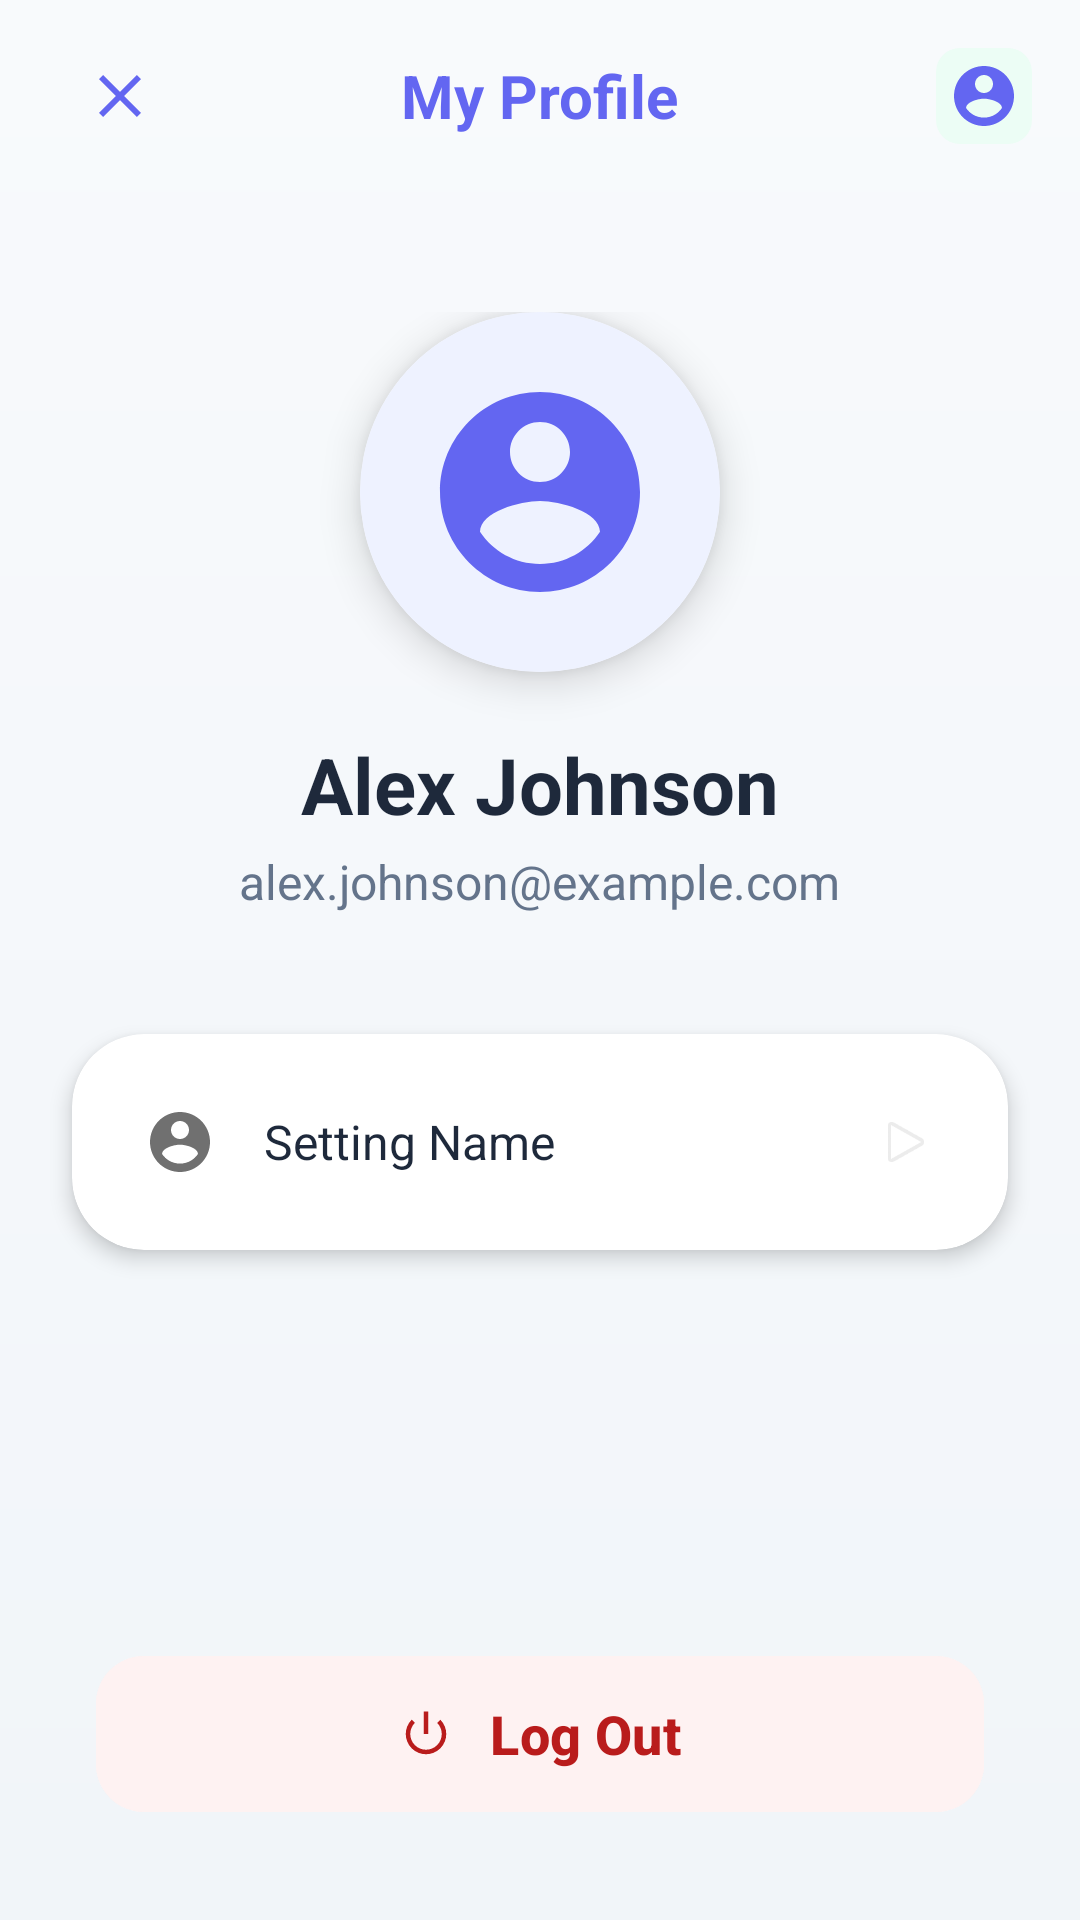

Screen size 1080 × 1920. Icon name, then its box in pixels as (x1, y1, x2, y2):
account: (954, 66, 1014, 126), (360, 312, 720, 672), (150, 1112, 210, 1172)
close: (99, 75, 141, 117)
